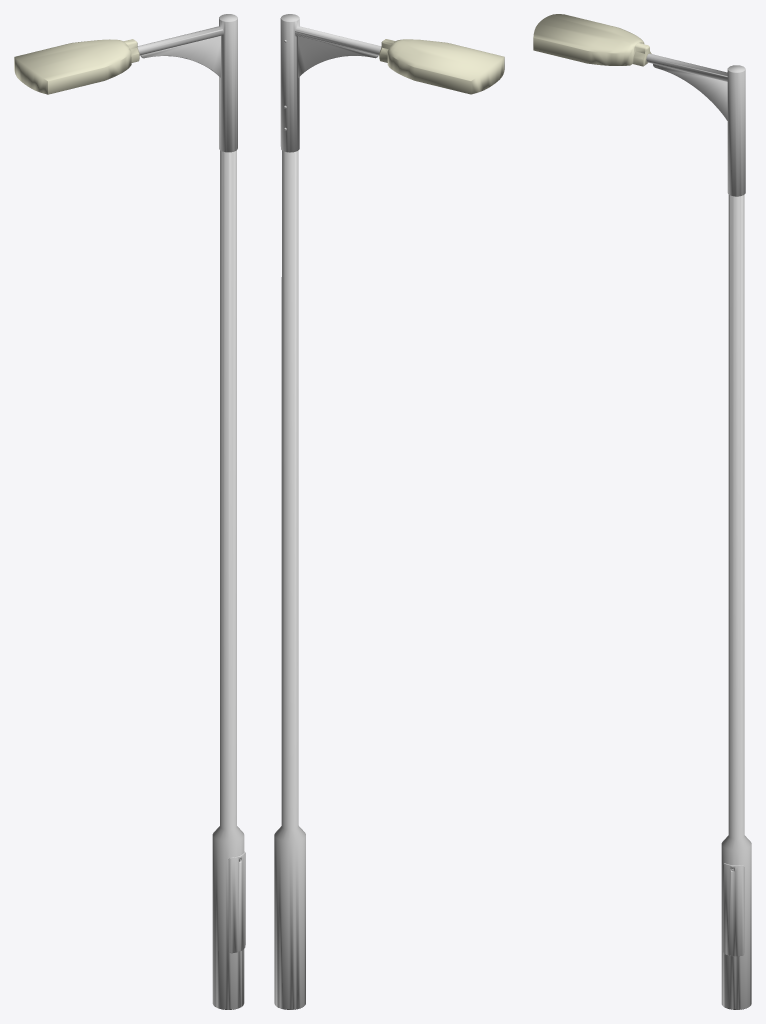
Rendered from lamp_05.glb.
The picture shows the model from 3 angles, left to right: view 1: azimuth 30°, elevation 25°; view 2: azimuth 150°, elevation 25°; view 3: azimuth 330°, elevation 25°; orthographic projection. The views are drawn at different scales.
Parts seen in each view (by area): view 1: 6M_LampPost.007; view 2: 6M_LampPost.007; view 3: 6M_LampPost.007.
Boxes of the visible parts, left/top/right/bottom form: 6M_LampPost.007: left=14, top=14, right=245, bottom=1009; 6M_LampPost.007: left=274, top=14, right=504, bottom=1009; 6M_LampPost.007: left=533, top=14, right=751, bottom=1009.
Size of the model in its own units: 1.19 by 5.16 by 0.3169.
